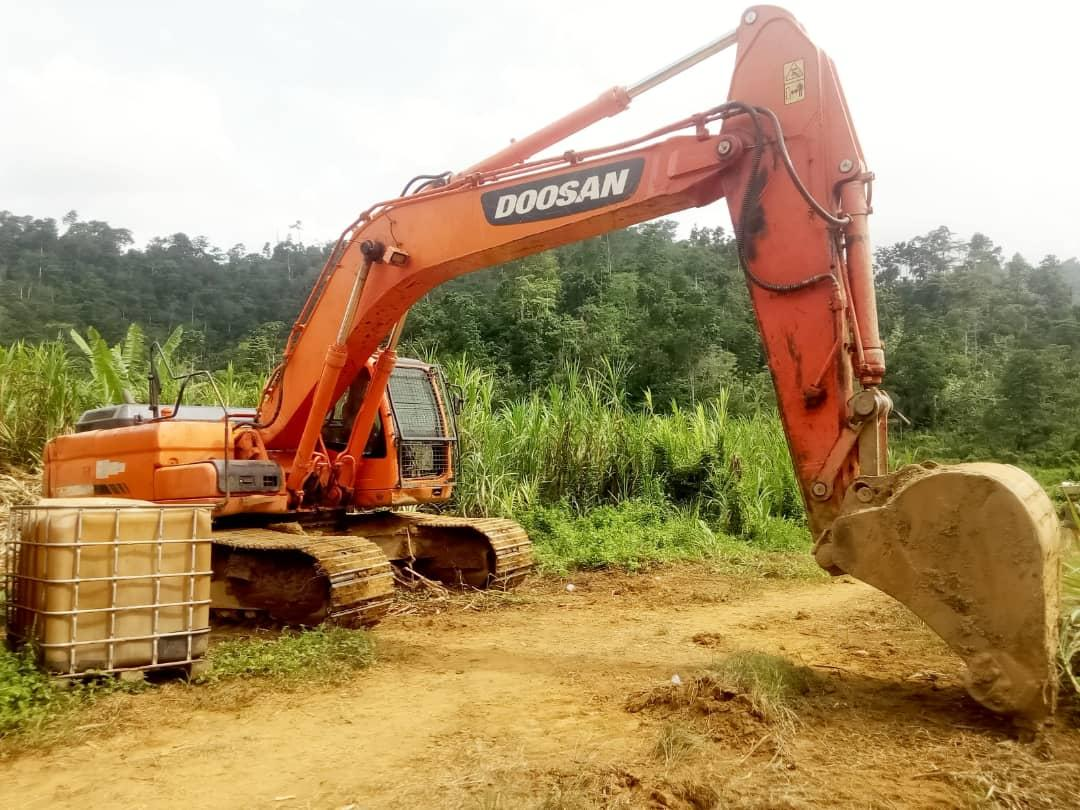ExcavationMachinery: (36, 5, 1065, 740)
MiningTool: (1, 496, 213, 678)
